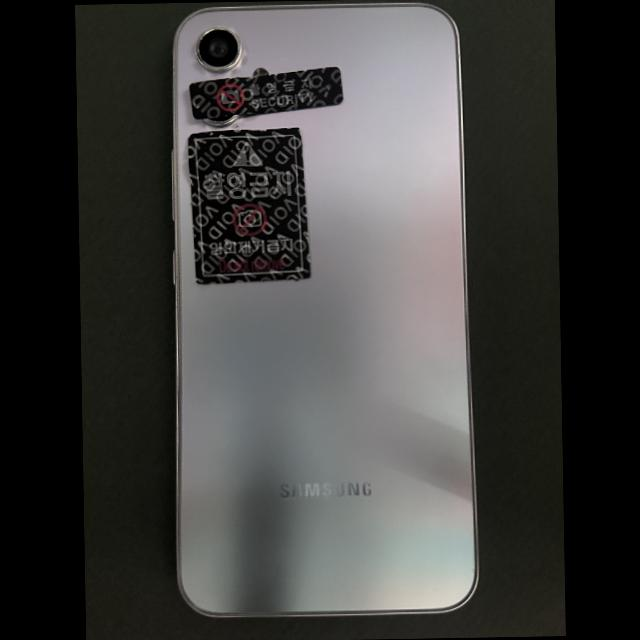lens: (198, 27, 242, 71), (204, 115, 238, 126)
phone: (171, 2, 477, 617)
sticker: (187, 127, 311, 285), (189, 66, 343, 120)
